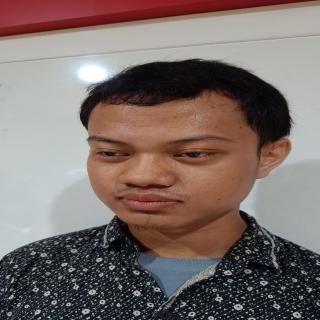Sedih: (66, 92, 263, 239)
